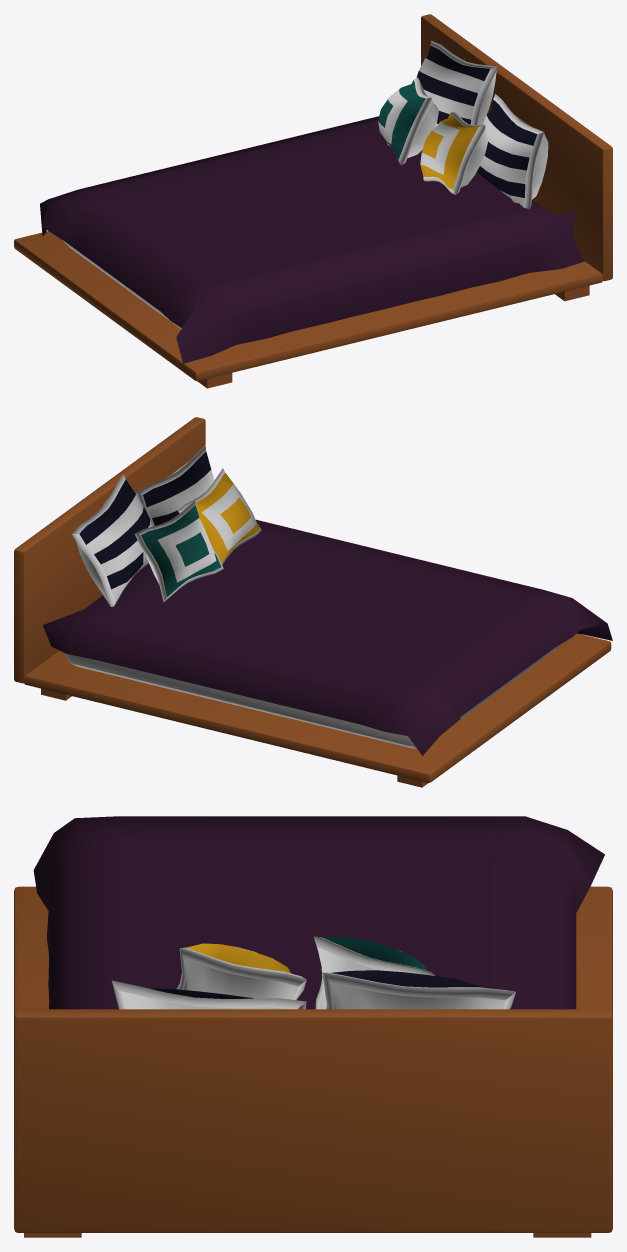
Rendered from Cama de matrimonio.fbx.
3 views of the same model, one above another, from view 1: azimuth 30°, elevation 25°; view 2: azimuth 150°, elevation 25°; view 3: azimuth 270°, elevation 25° (orthographic). The views are drawn at different scales.
Visible parts, largest first — view 1: Cama de matrimonio; view 2: Cama de matrimonio; view 3: Cama de matrimonio.
Boxes of the visible parts, x1=… form: Cama de matrimonio: x1=14, y1=14, x2=612, y2=388; Cama de matrimonio: x1=14, y1=417, x2=612, y2=787; Cama de matrimonio: x1=14, y1=816, x2=612, y2=1237.
Bounding box in the file's own units: 184 × 66.87 × 137.
